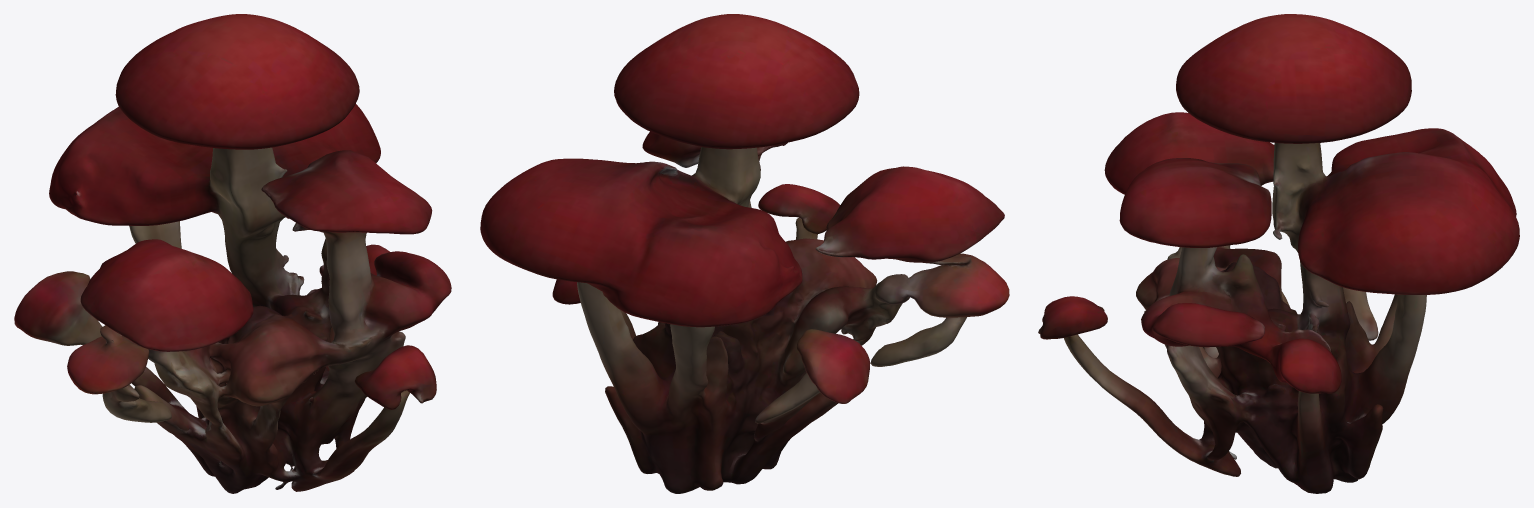
Rendered from 037603bc54a3_bunch_of_red_mushro.fbx.
3 renders of one model, left to right at view 1: azimuth 30°, elevation 25°; view 2: azimuth 150°, elevation 25°; view 3: azimuth 270°, elevation 25°, orthographic. The views are drawn at different scales.
Parts seen in each view (by area): view 1: high_poly; view 2: high_poly; view 3: high_poly.
Part boxes in pixels (<box>): high_poly: <box>14,14,451,493</box>; high_poly: <box>480,14,1009,493</box>; high_poly: <box>1038,14,1519,493</box>.
Bounding box in the file's own units: 90.97 × 100 × 98.44.
